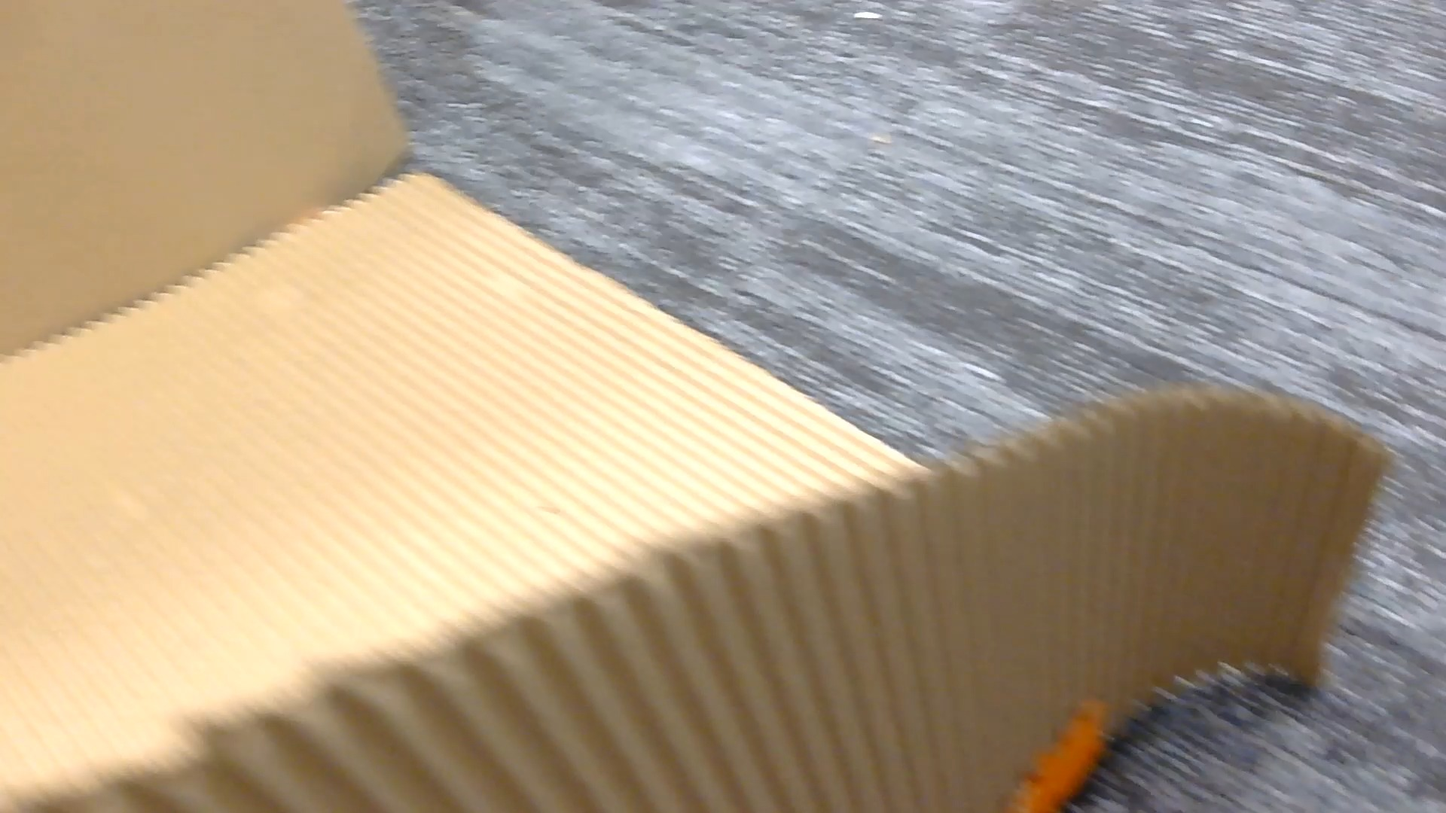Ramp: (0, 0, 1384, 812)
